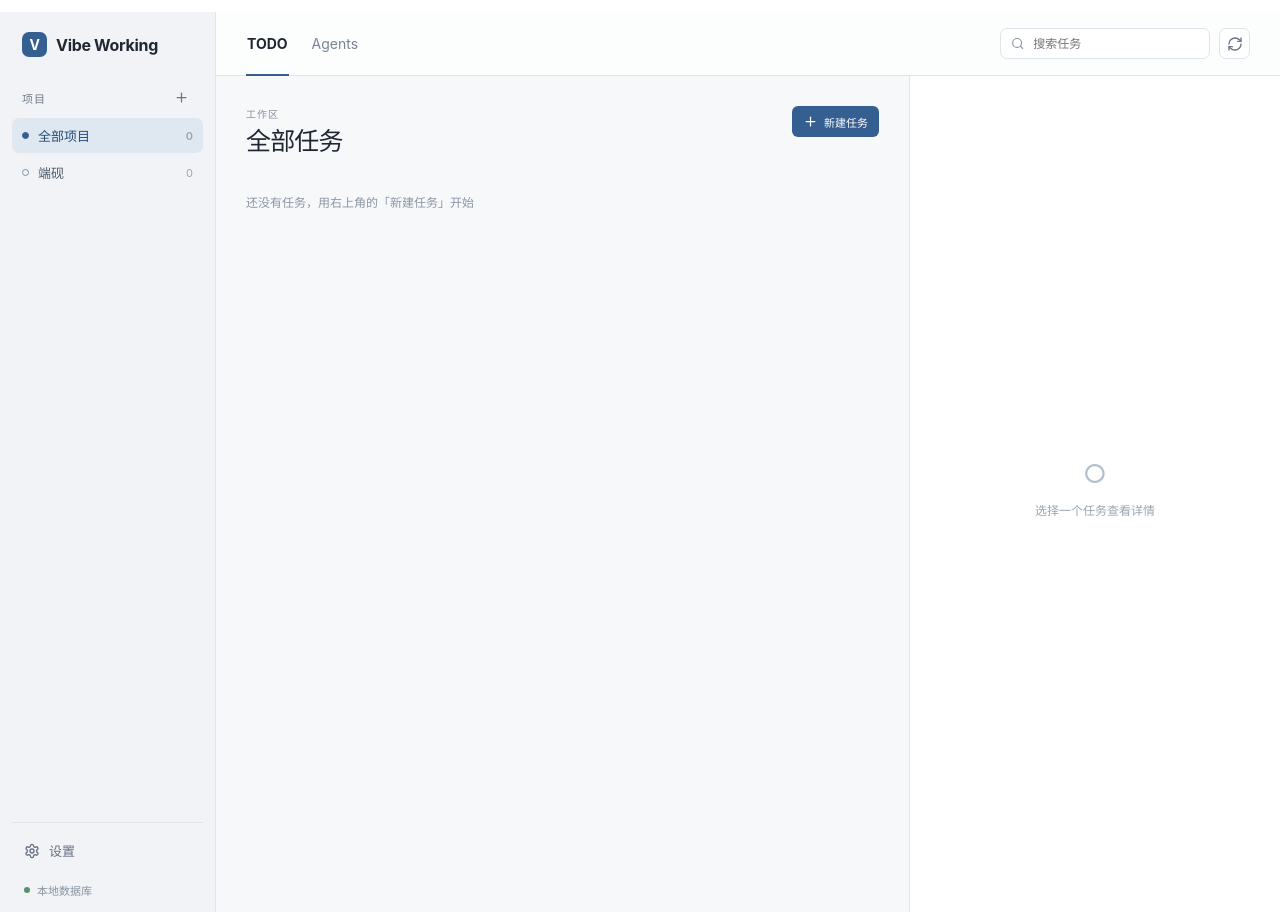
Test: a project with no tasks › opens the new-task form in the list, not inside the heading
This screenshot has width=1280, height=912.
Click the button "新建任务".
click(836, 122)  # box [792,106,879,137]
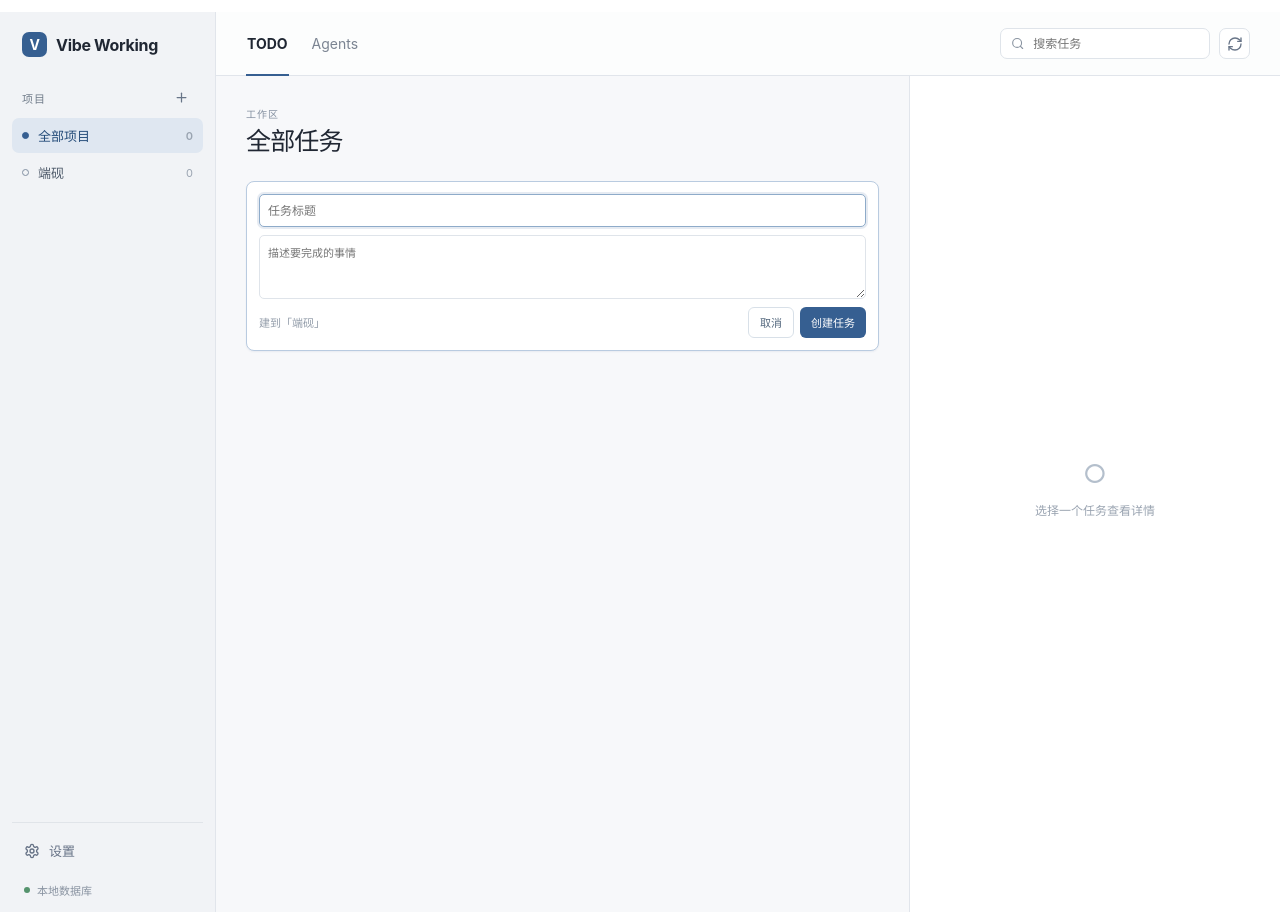
expect the form with class "new-task-form" is shown: met, box [246,180,879,350]
